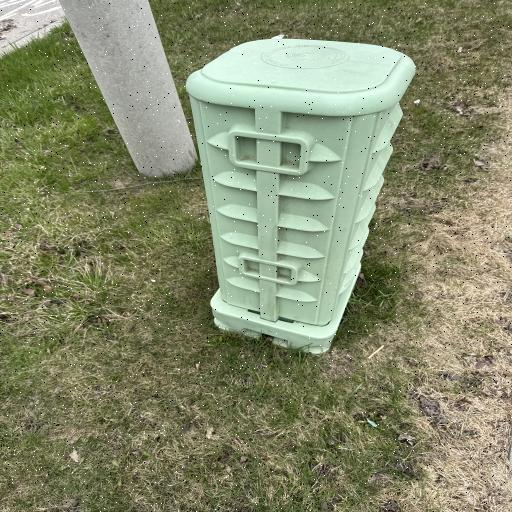Electrical Box: (180, 37, 418, 350)
